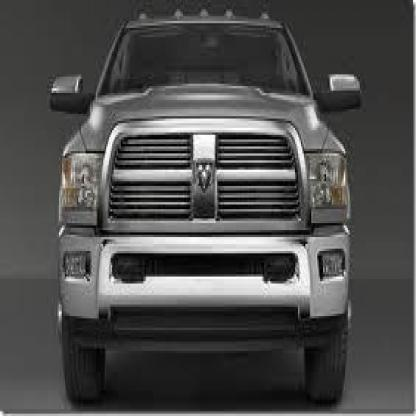car: (50, 2, 359, 414)
